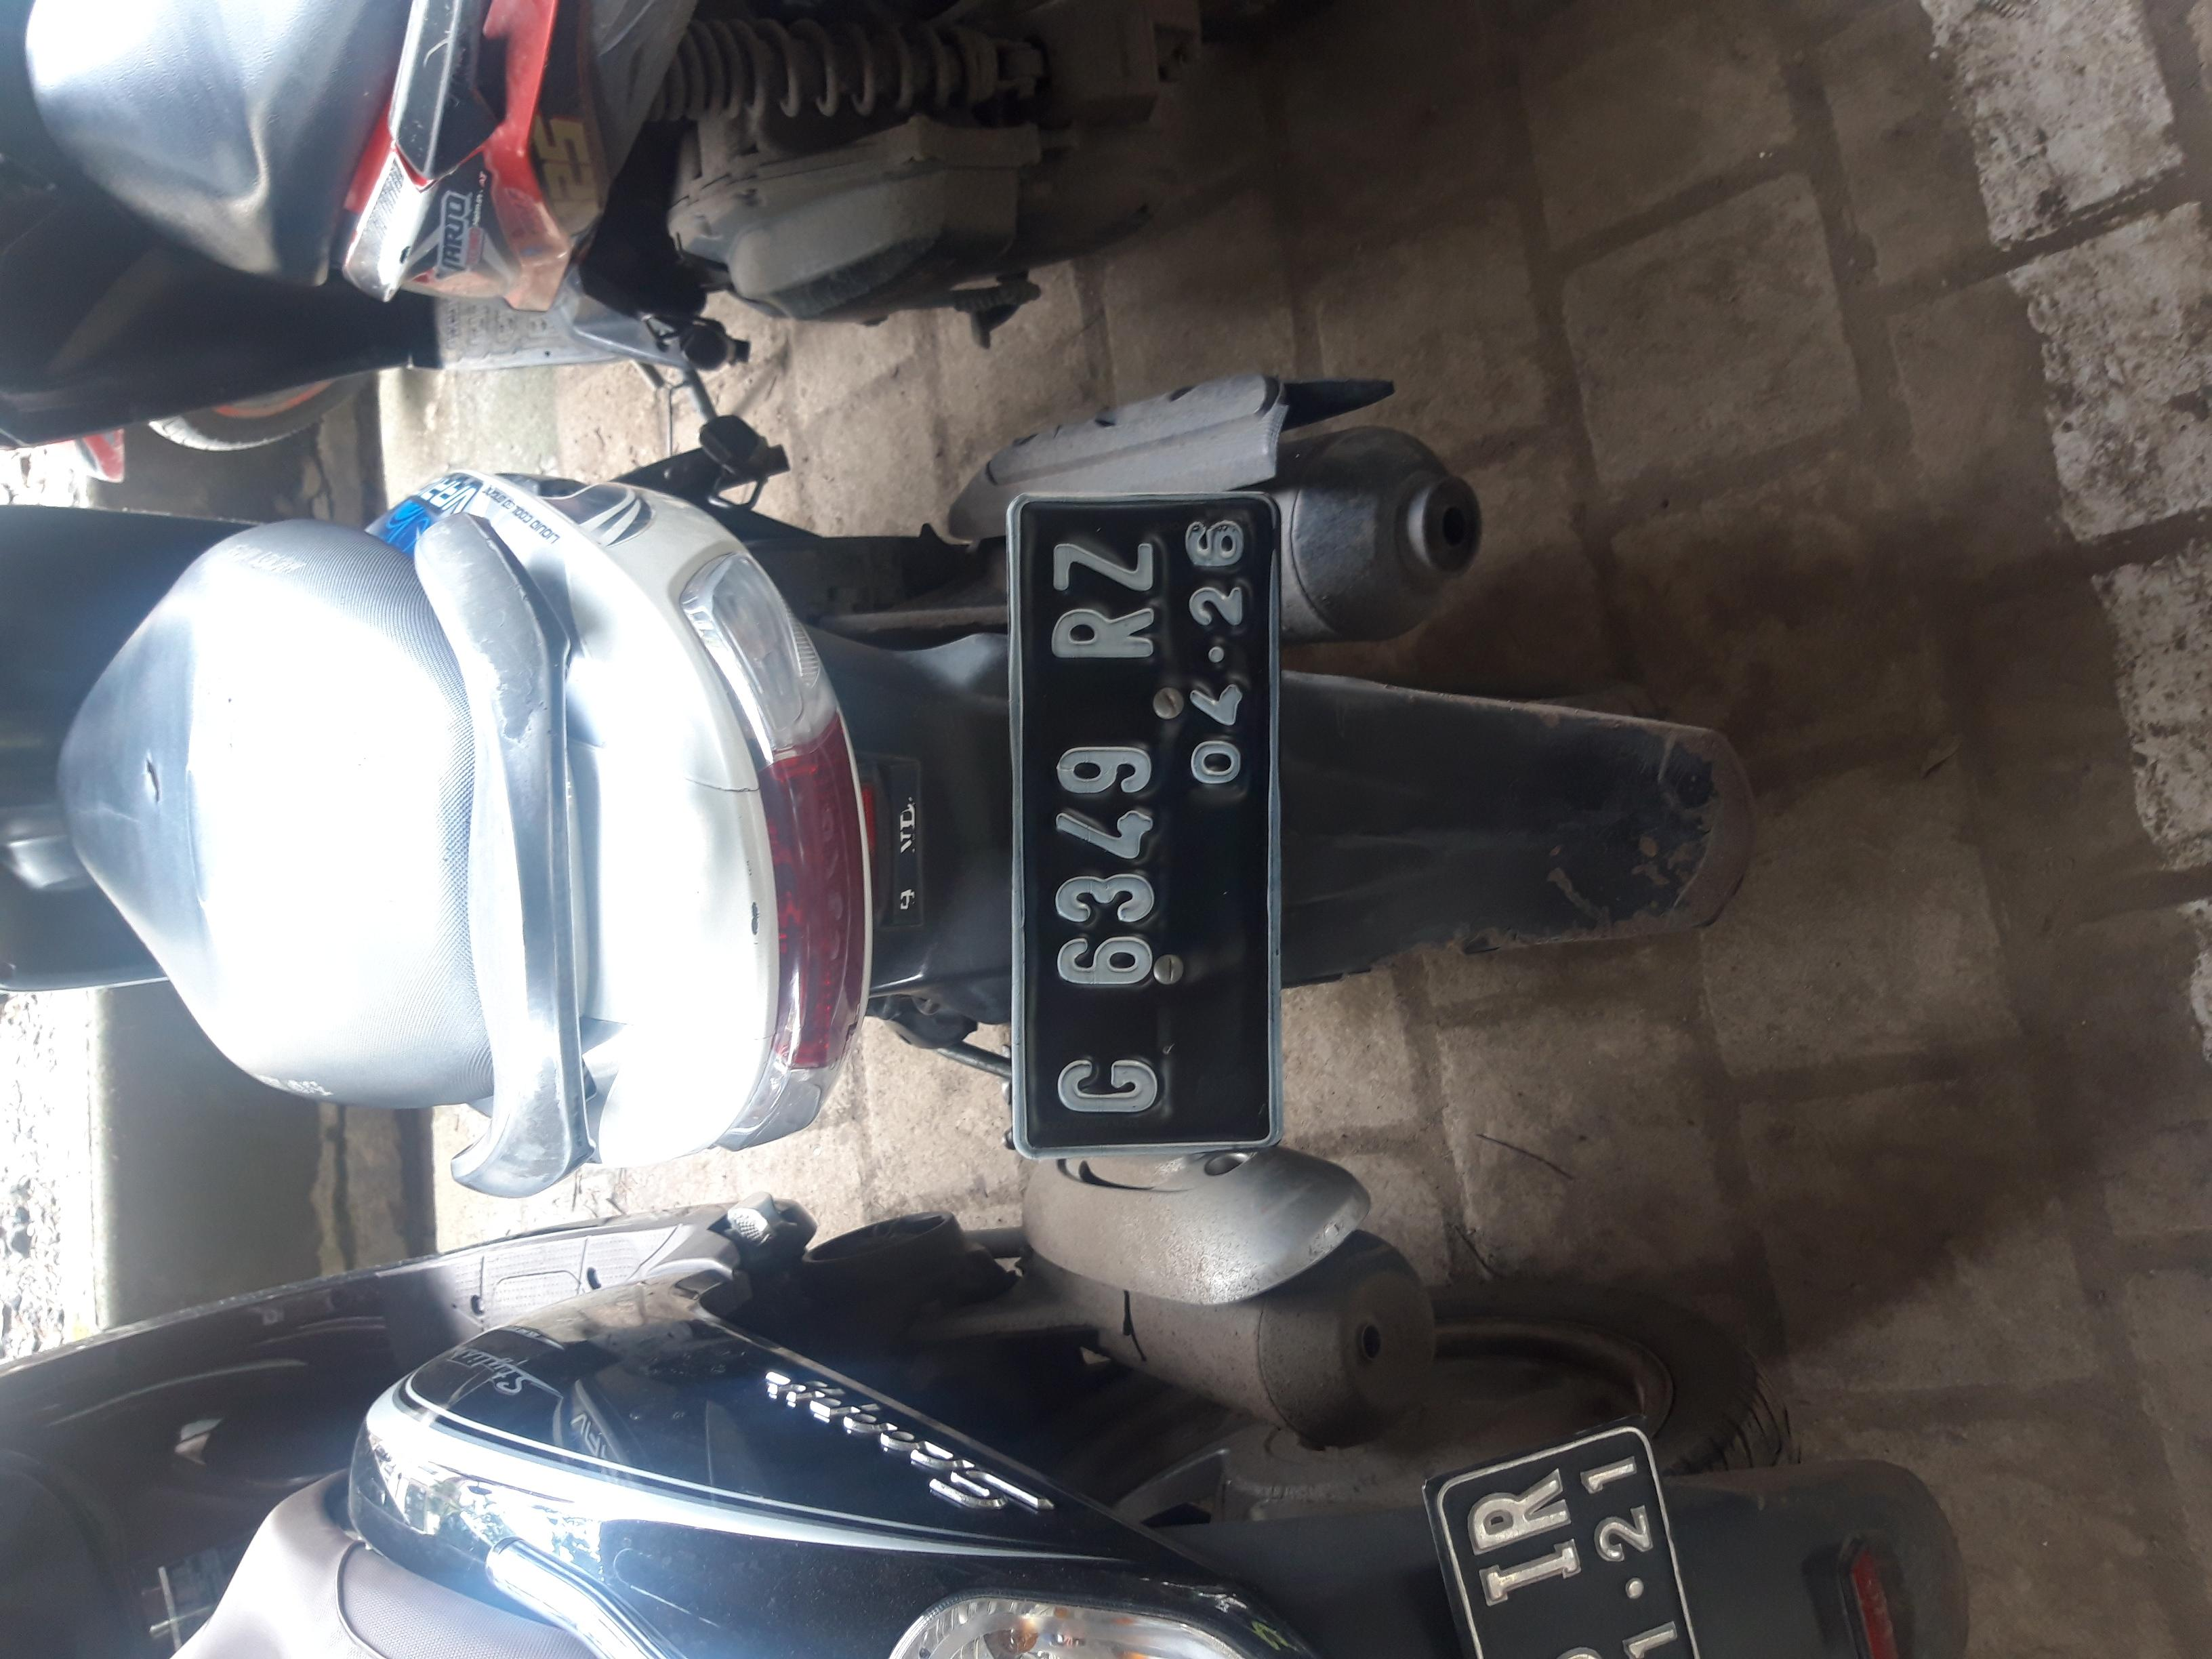plat: (662, 755, 1561, 958)
